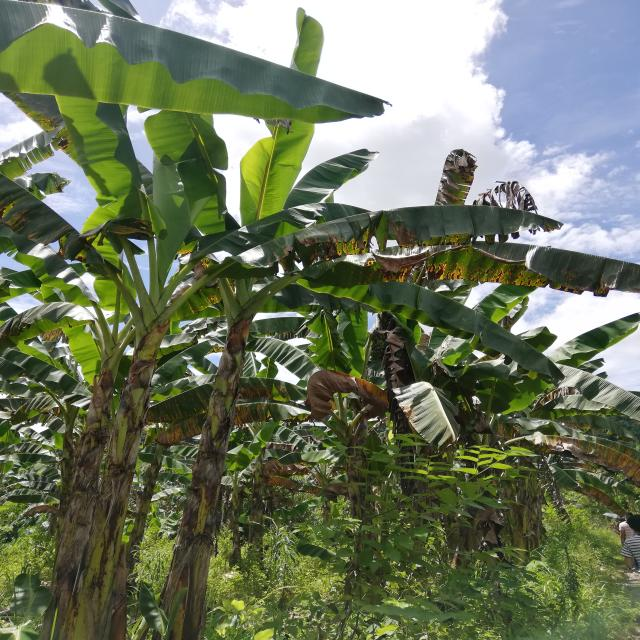Banana-plant: (55, 301, 193, 634), (149, 290, 279, 636), (56, 331, 120, 640)
